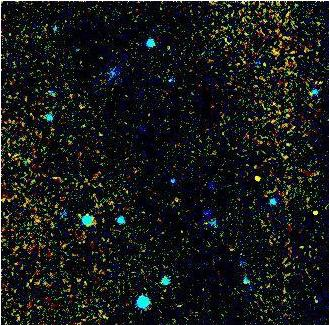star: (237, 167, 267, 197)
